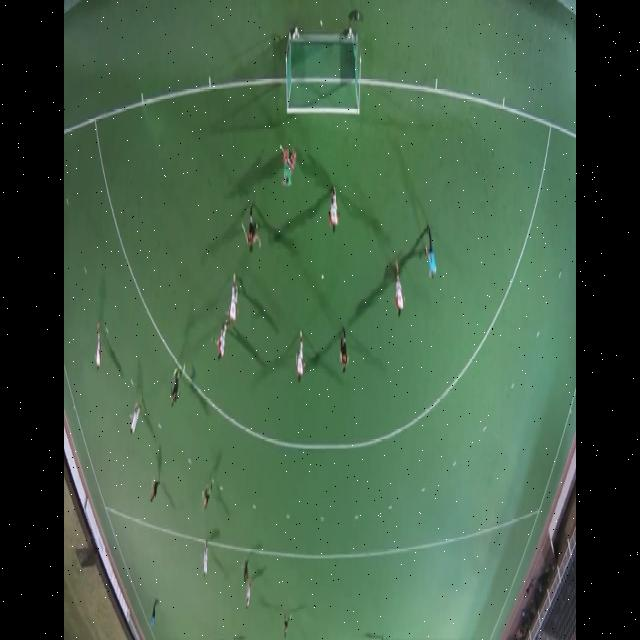humans: (278, 138, 299, 198), (333, 321, 352, 382), (423, 216, 438, 291), (241, 206, 263, 256), (170, 356, 187, 418), (391, 259, 406, 326), (293, 327, 308, 391), (198, 472, 218, 520), (326, 177, 340, 237), (92, 309, 104, 377), (212, 314, 228, 364), (228, 268, 239, 333), (243, 558, 253, 620), (129, 398, 142, 441), (148, 469, 161, 509), (148, 594, 161, 627), (281, 610, 292, 640), (202, 538, 209, 583)
